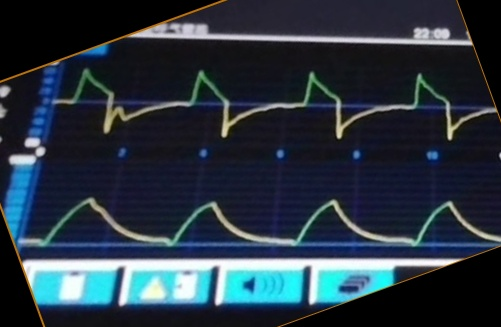Premature_cycling Flow: (64, 63, 480, 142)
Premature_cycling Volume: (38, 178, 481, 252)
